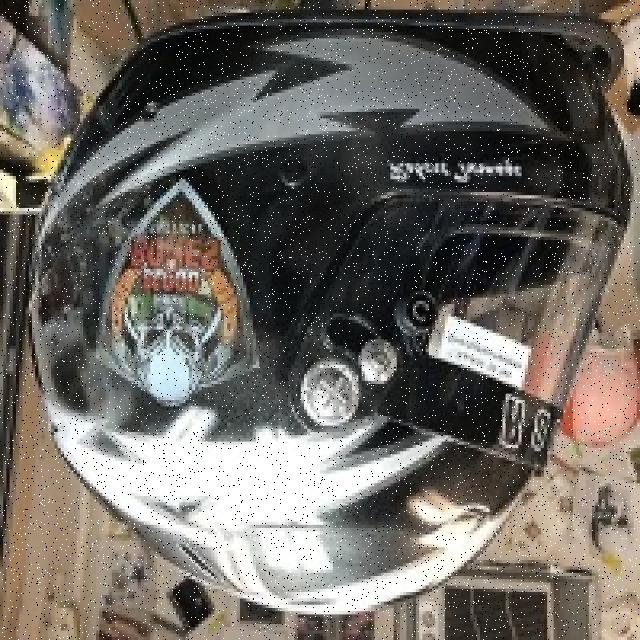Helmet: (32, 16, 630, 612)
